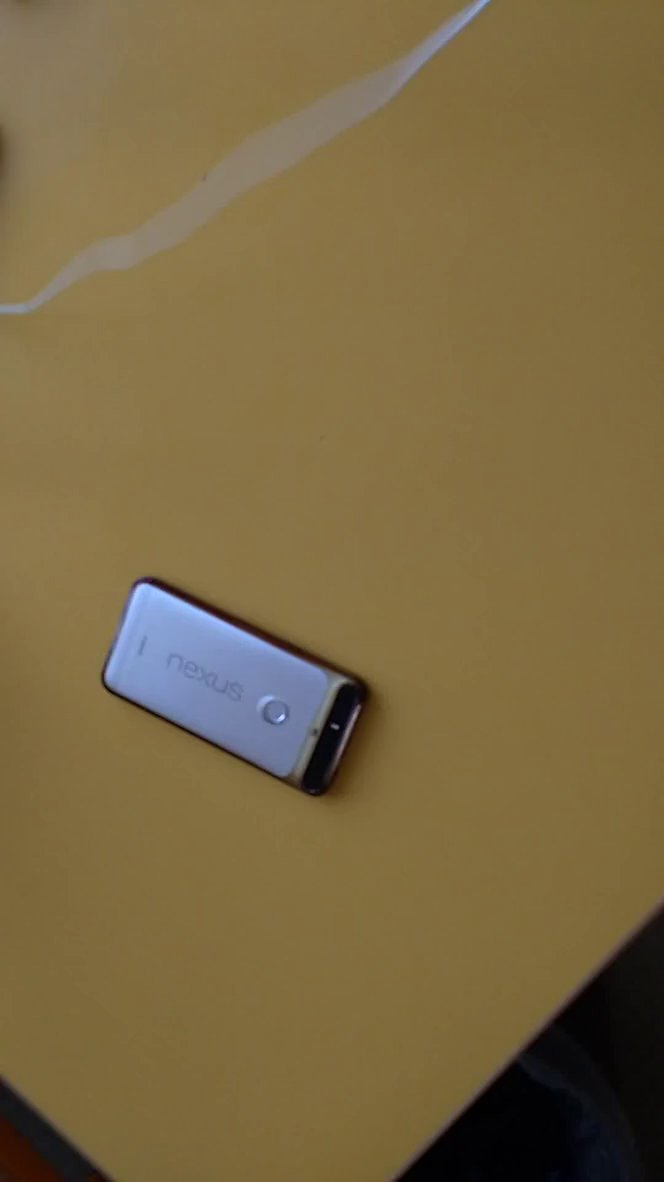phone: (84, 562, 381, 809)
